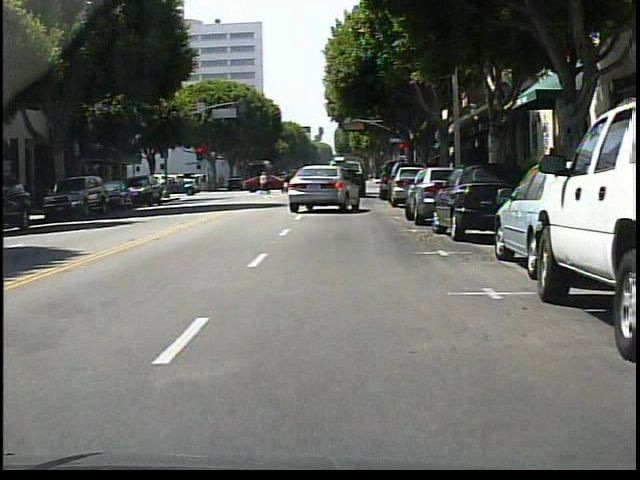person: (542, 145, 568, 203), (283, 168, 294, 195), (259, 171, 271, 195), (263, 173, 268, 188)
